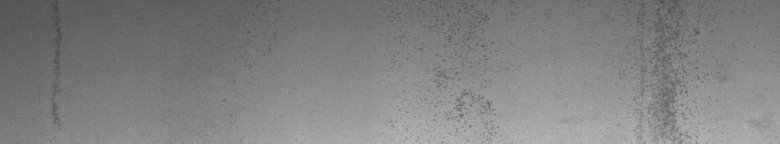ib: (388, 5, 499, 136)
